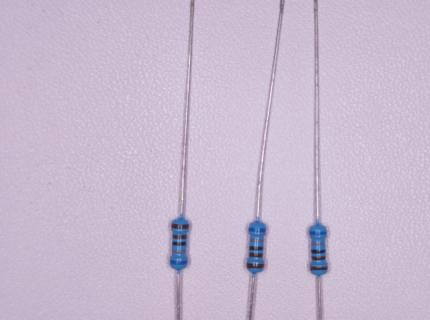Black band: (249, 246, 264, 251), (172, 241, 187, 246), (312, 249, 325, 254)
Blue band: (309, 230, 327, 236), (249, 227, 266, 233), (171, 260, 188, 265)
Brown band: (246, 262, 264, 269), (171, 223, 190, 229), (310, 266, 328, 271), (249, 253, 263, 258), (312, 256, 326, 261), (172, 235, 187, 239)
Grey band: (172, 249, 186, 254), (250, 238, 264, 243), (311, 241, 325, 246)
